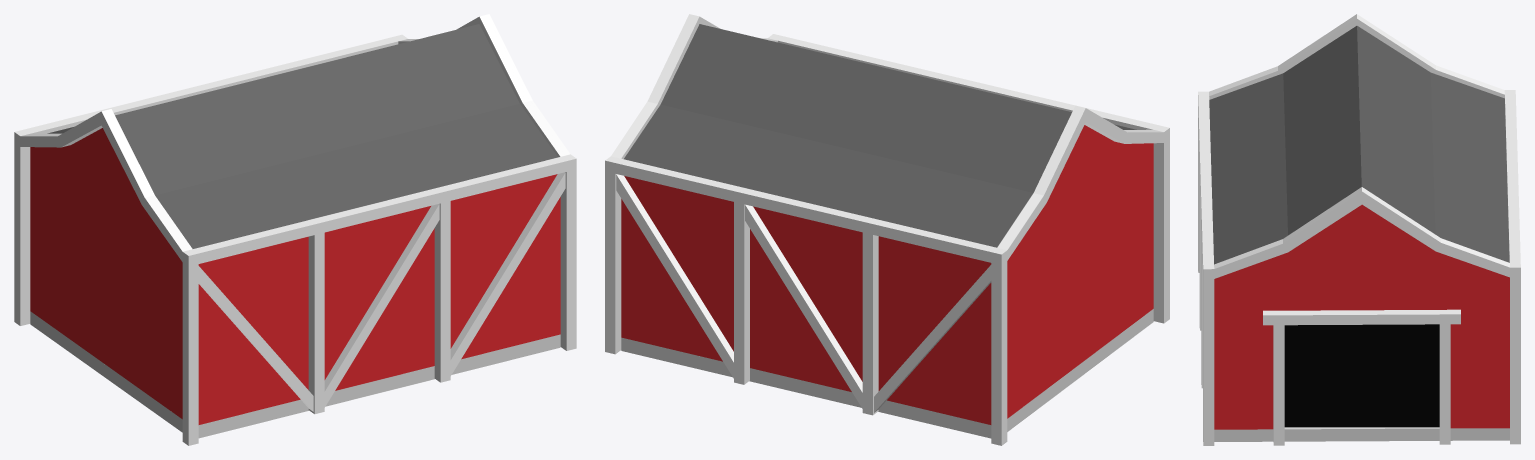
Rendered from barn.fbx.
The picture shows the model from 3 angles, left to right: view 1: azimuth 30°, elevation 25°; view 2: azimuth 150°, elevation 25°; view 3: azimuth 270°, elevation 25°; orthographic projection. The views are drawn at different scales.
Parts seen in each view (by area): view 1: Roof, Cube.336, Cube.000, Cube.003; view 2: Roof, Cube.336, Cube.000, Cube.003; view 3: Cube.336, Roof, Cube.000, Cube, Cube.003.
Part boxes in pixels (box(x1,y1,x2,y2)): Roof: box(30, 128, 560, 424); Cube.336: box(47, 24, 557, 248); Cube.000: box(14, 14, 576, 445); Cube.003: box(30, 311, 560, 438); Roof: box(621, 125, 1153, 424); Cube.336: box(624, 24, 1136, 247); Cube.000: box(605, 14, 1169, 445); Cube.003: box(621, 309, 1153, 438); Cube.336: box(1209, 26, 1509, 264); Roof: box(1214, 204, 1509, 429); Cube.000: box(1198, 14, 1520, 445); Cube: box(1284, 324, 1439, 427); Cube.003: box(1214, 427, 1509, 441).
Size of the model in its own units: 3.11 by 2.06 by 2.37.
